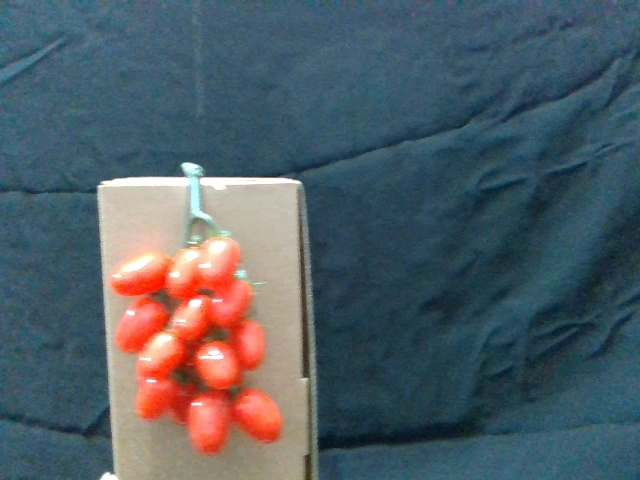tomato: (233, 389, 286, 447), (184, 393, 231, 458), (113, 253, 173, 300), (116, 299, 167, 353), (195, 341, 244, 393), (201, 236, 243, 292), (140, 331, 186, 379), (172, 296, 217, 345), (229, 316, 267, 371), (134, 378, 178, 422), (169, 249, 206, 301), (213, 282, 253, 329)
